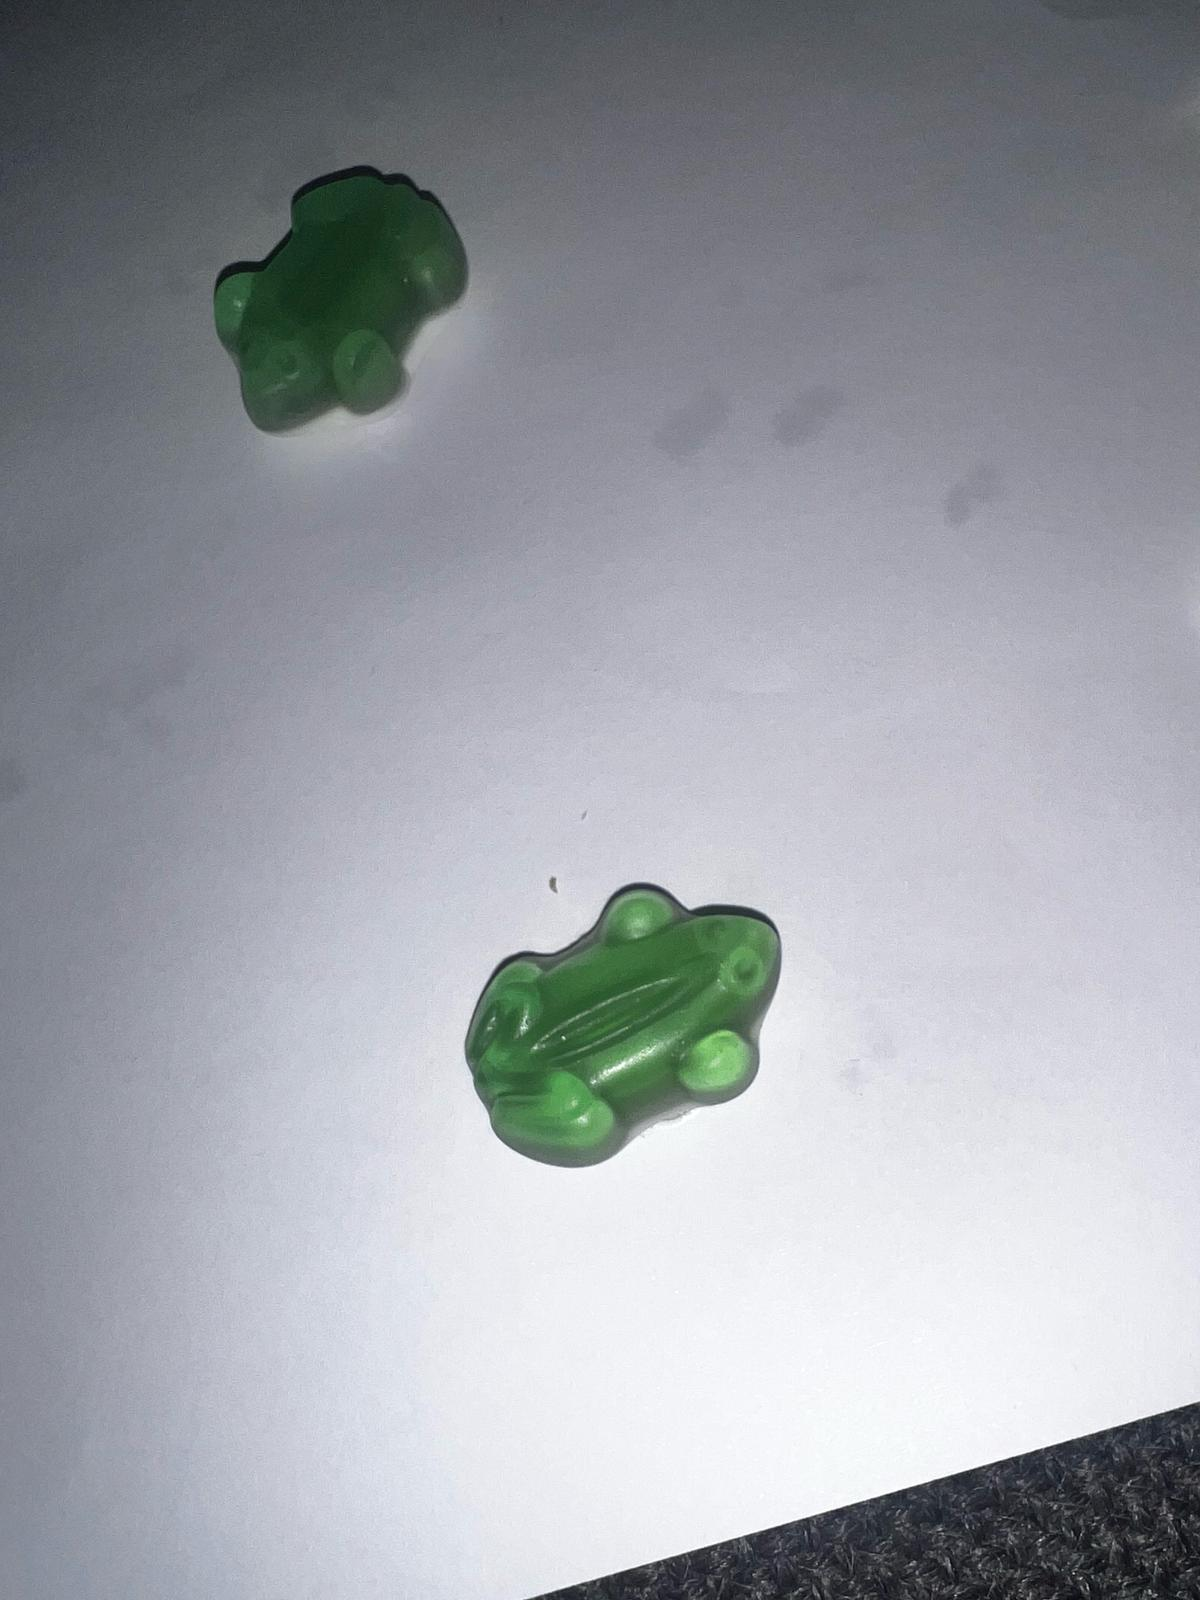frog: (447, 881, 795, 1172), (205, 160, 473, 446)
